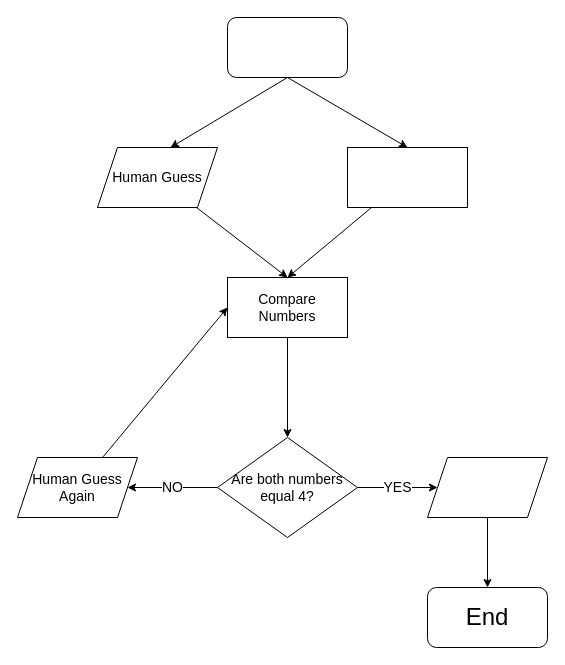
Some shapes in this 565 by 665 pixel diagram are drawn without their labels. The shapes that lost their labels are listed below. From the top down, each one's box as (x1, y1, x2, y2) in pixels, then its label:
(226, 16, 348, 78): Start
(346, 146, 468, 208): Computer Guess No from 0 to N
(426, 456, 548, 518): You Won
